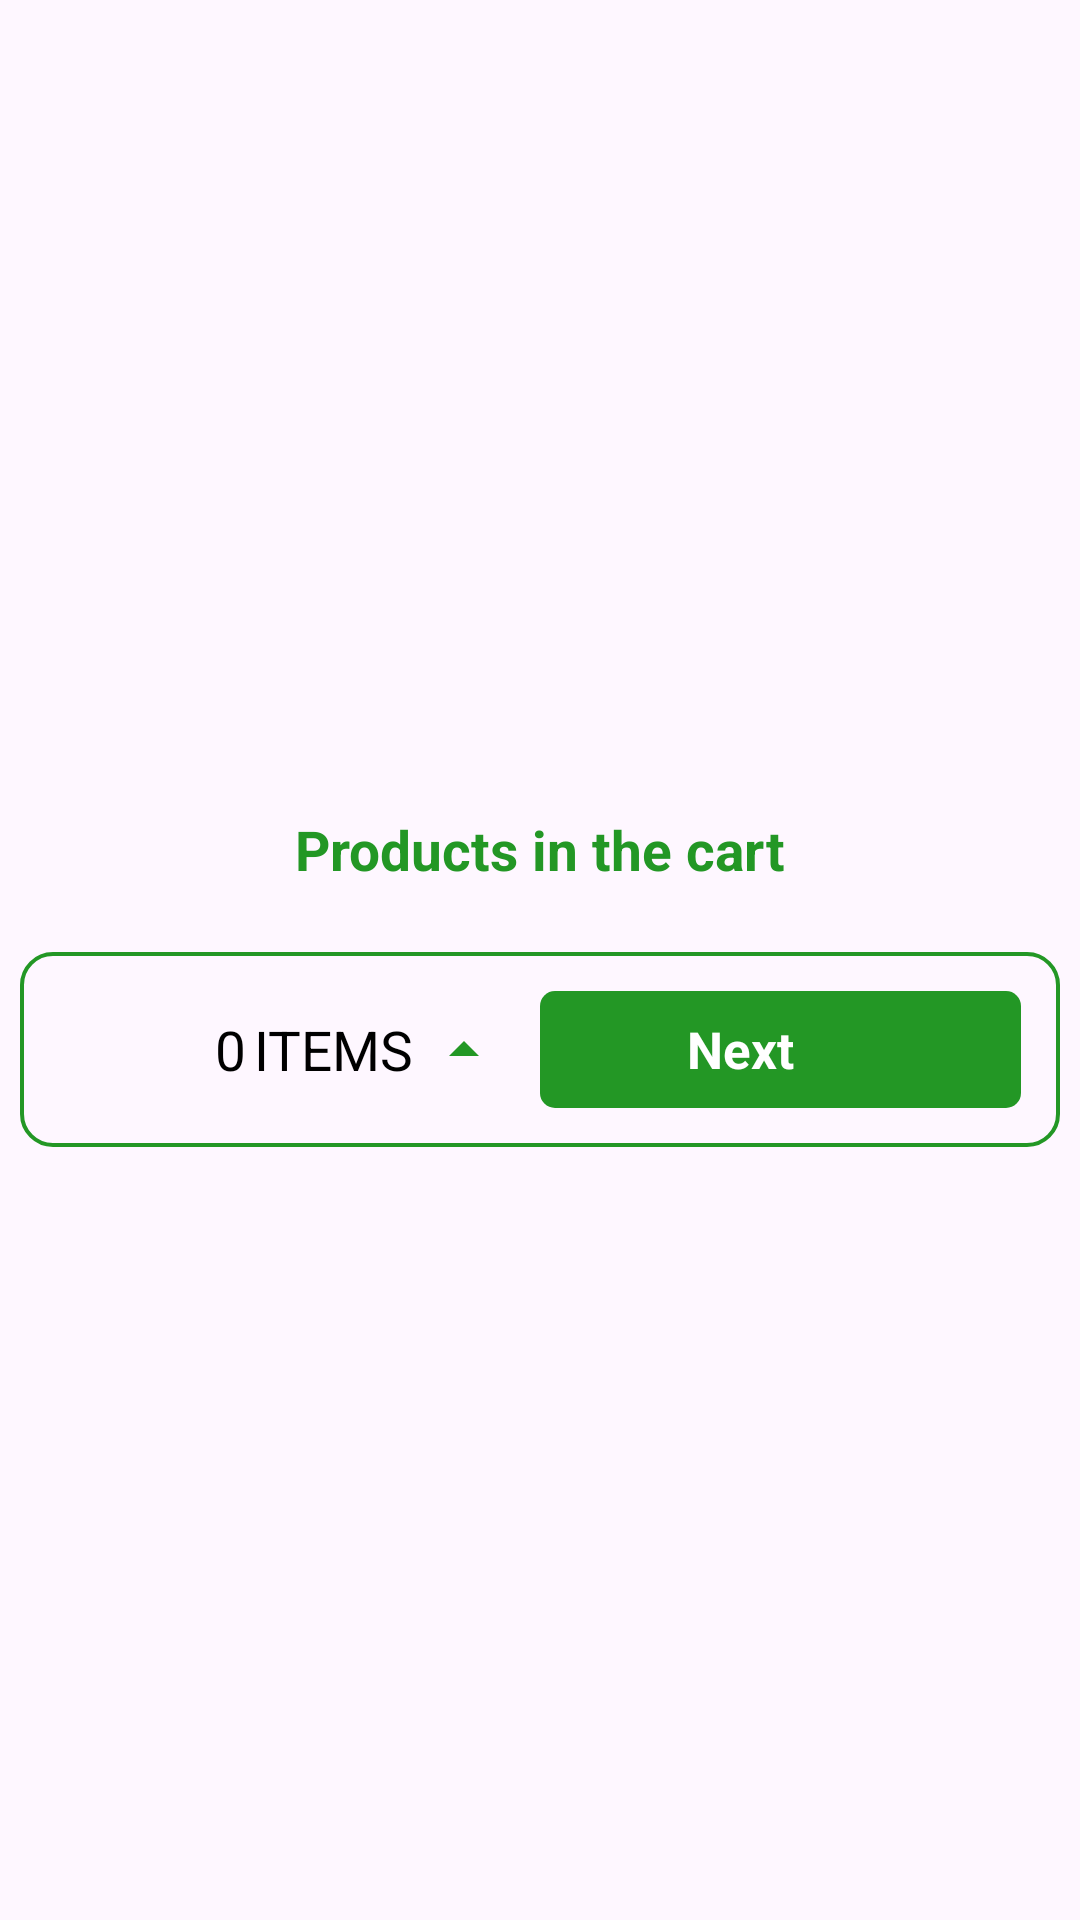

Icon click points for this 1080 x 1920 phone screenshot, format (x=x, y=y):
arrow up: (x=464, y=1048)
